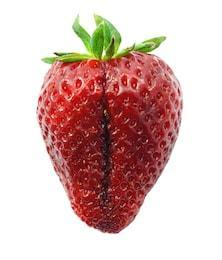Fresa: (36, 46, 187, 237)
